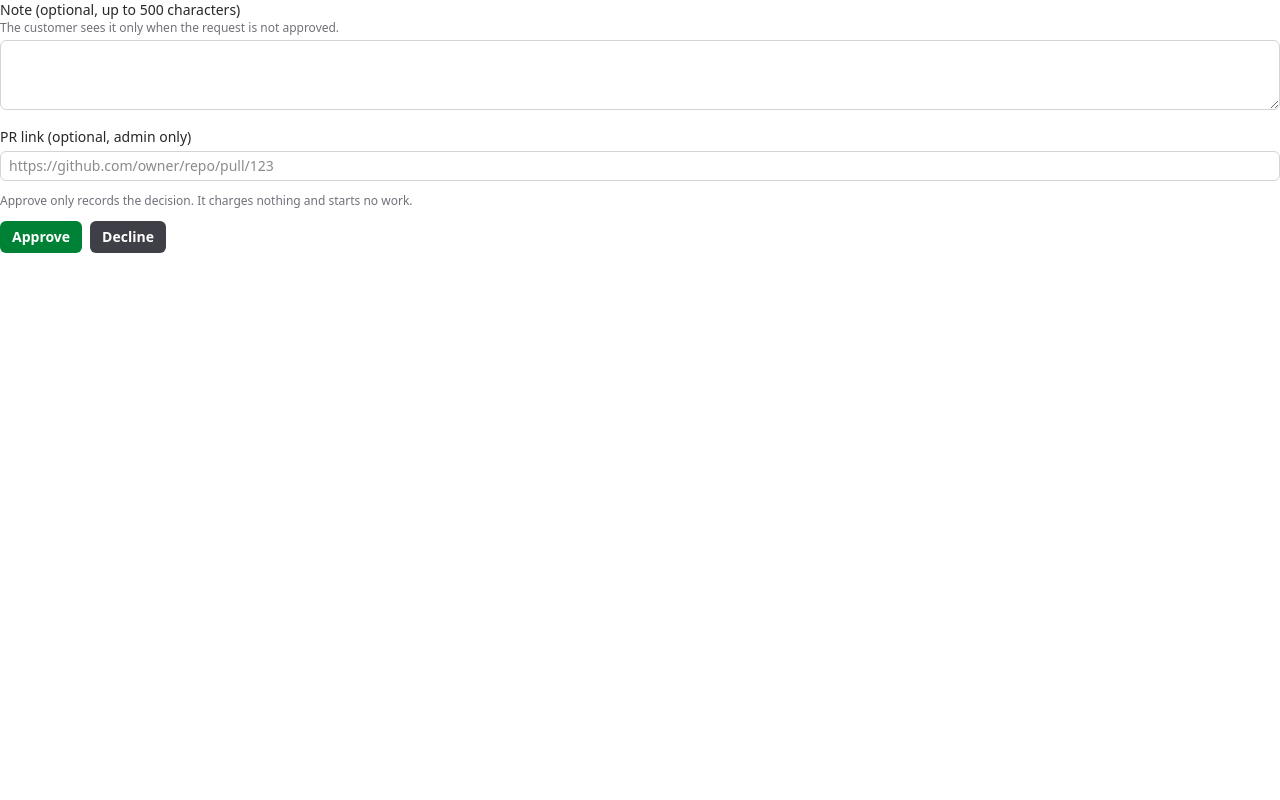
Test: Approve / Decline confirm step (Aria ruling 5) › Approve does not submit; it opens a labelled confirm dialog and moves focus into it
Click the button "Approve".
click(41, 237)  # box top-left (0, 221), bottom-right (82, 253)
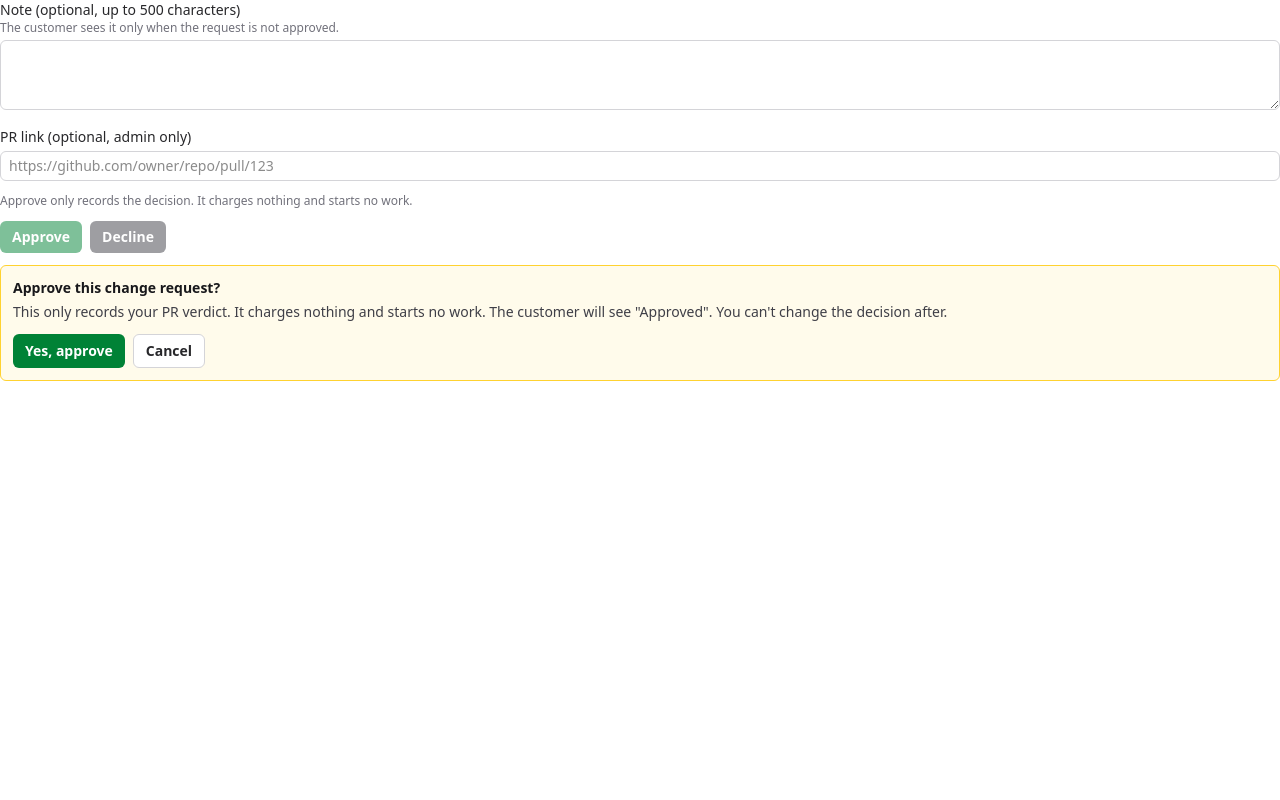
Result: the button "Approve" is expanded at top-left (0, 221), bottom-right (82, 253)
